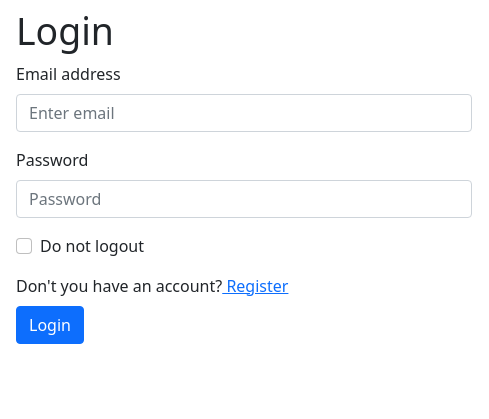
Test: if wrong credentials
Check: the password field labelled "Password" is shown, box x1=16 y1=180 x2=472 y2=218
Check: the button "Login" is shown, box x1=16 y1=306 x2=84 y2=344
Type "admin@admin.com" into the field labelled "Email address" at (244,113), box x1=16 y1=94 x2=472 y2=132
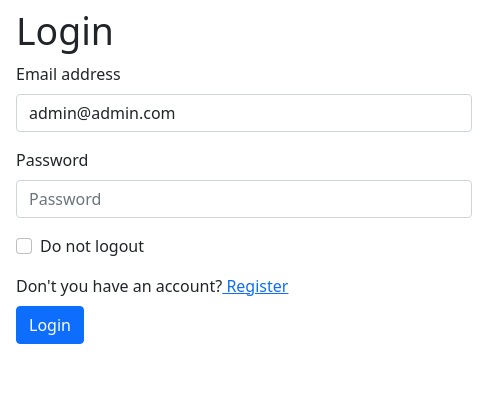
Type "admin@admin.com" into the password field labelled "Password" at (244,199), box x1=16 y1=180 x2=472 y2=218
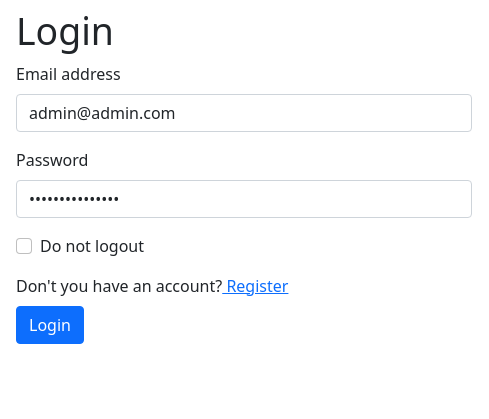
Click the button "Login" at (50,325), box x1=16 y1=306 x2=84 y2=344
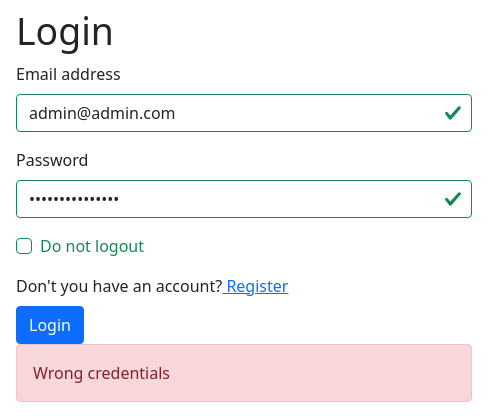
Check: the text "Wrong credentials" is shown, box x1=16 y1=344 x2=472 y2=402
